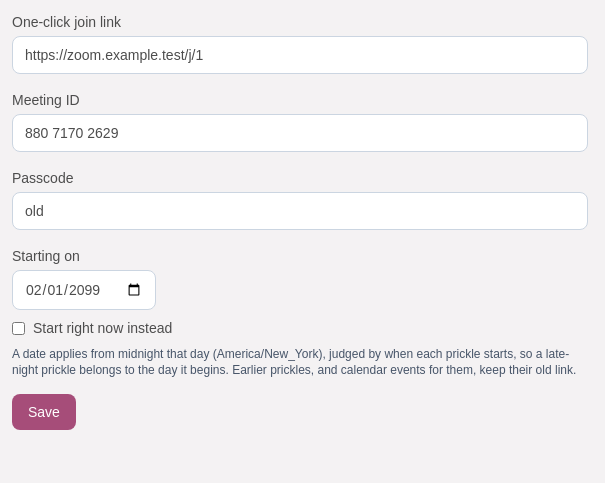
Test: PrickleJoinForm › starts right now when asked, ignoring the date
Click the checkbox labelled "Start right now instead" at [18, 328], box [12,322,25,334]
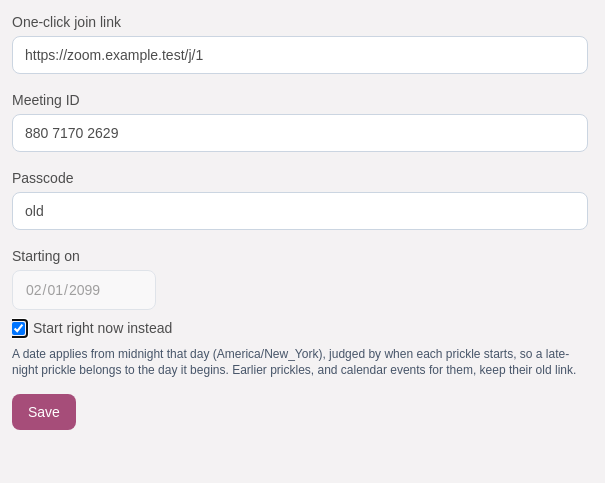
Now the date field labelled "Starting on" is disabled, box [12,270,156,310]
Click the button "Save" at [44, 412], box [12,394,76,430]
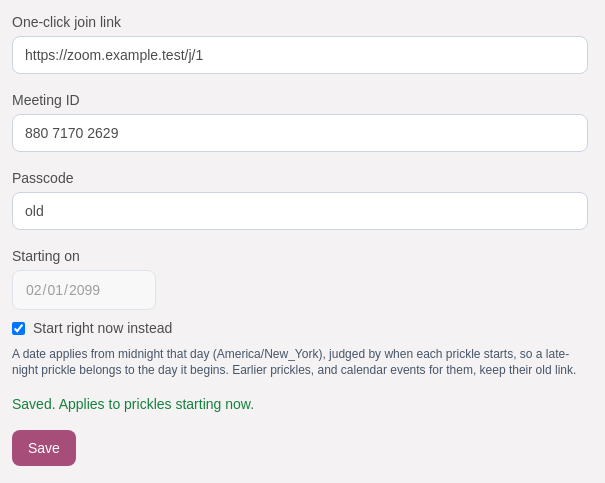
Now the text "Saved. Applies to prickles starting now." is shown, box [12,396,254,412]
